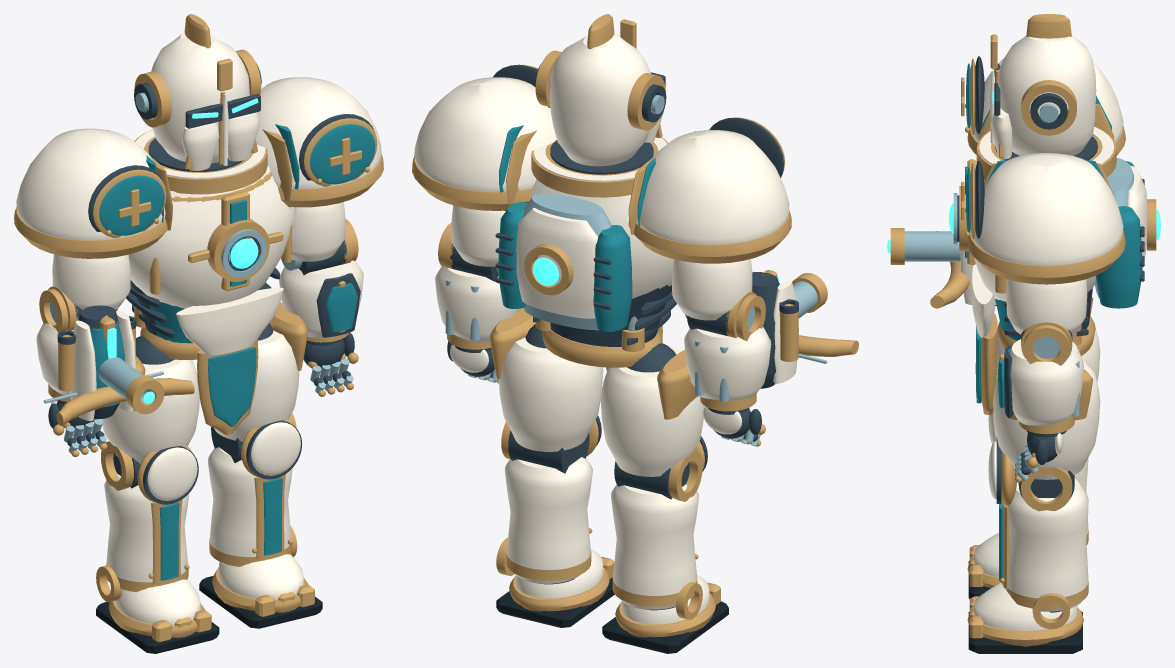
The model's file is RelicMarshal.glb.
The picture shows the model from 3 angles, left to right: view 1: azimuth 30°, elevation 25°; view 2: azimuth 150°, elevation 25°; view 3: azimuth 270°, elevation 25°; orthographic projection. The views are drawn at different scales.
Visible parts, largest first — view 1: Torso, UpperArmR, UpperArmL, Head, ShinR, ShinL, Weapon, FootR, ForearmL, FootL, ThighR, ThighL (+3 smaller); view 2: Torso, UpperArmR, UpperArmL, Head, ShinL, ShinR, ThighL, ThighR, ForearmR, Weapon, ForearmL, FootR (+3 smaller); view 3: UpperArmL, Torso, Head, ShinL, ForearmL, FootL, ThighL, UpperArmR, Weapon, FootR, HandL, ThighR (+1 smaller).
Boxes of the visible parts, x1,y1,x2,y2 form: Torso: [126, 129, 296, 434]; UpperArmR: [14, 128, 172, 309]; UpperArmL: [255, 77, 383, 261]; Head: [134, 14, 261, 170]; ShinR: [101, 441, 198, 592]; ShinL: [207, 412, 302, 566]; Weapon: [43, 305, 194, 425]; FootR: [96, 565, 219, 653]; ForearmL: [279, 219, 363, 345]; FootL: [199, 526, 322, 628]; ThighR: [101, 336, 199, 463]; ThighL: [214, 302, 308, 441]; Torso: [495, 137, 676, 370]; UpperArmR: [628, 117, 791, 320]; UpperArmL: [412, 64, 556, 266]; Head: [535, 14, 666, 166]; ShinL: [501, 415, 601, 584]; ShinR: [611, 435, 707, 610]; ThighL: [489, 308, 603, 451]; ThighR: [600, 343, 704, 476]; ForearmR: [684, 292, 771, 414]; Weapon: [752, 270, 858, 388]; ForearmL: [435, 223, 518, 352]; FootR: [602, 575, 728, 653]; UpperArmL: [961, 153, 1125, 334]; Torso: [949, 126, 1160, 414]; Head: [990, 14, 1096, 159]; ShinL: [988, 441, 1088, 612]; ForearmL: [997, 322, 1083, 437]; FootL: [967, 583, 1083, 653]; ThighL: [993, 360, 1100, 479]; UpperArmR: [961, 56, 1125, 155]; Weapon: [887, 228, 996, 308]; FootR: [967, 533, 1000, 598]; HandL: [1015, 433, 1064, 482]; ThighR: [996, 297, 1100, 381].
Size of the model in its own units: 1.85 by 2.82 by 1.18.
